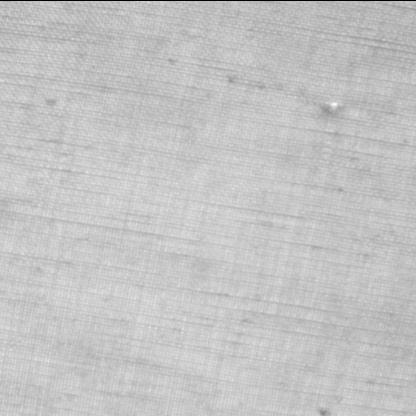hole: (317, 96, 346, 116)
